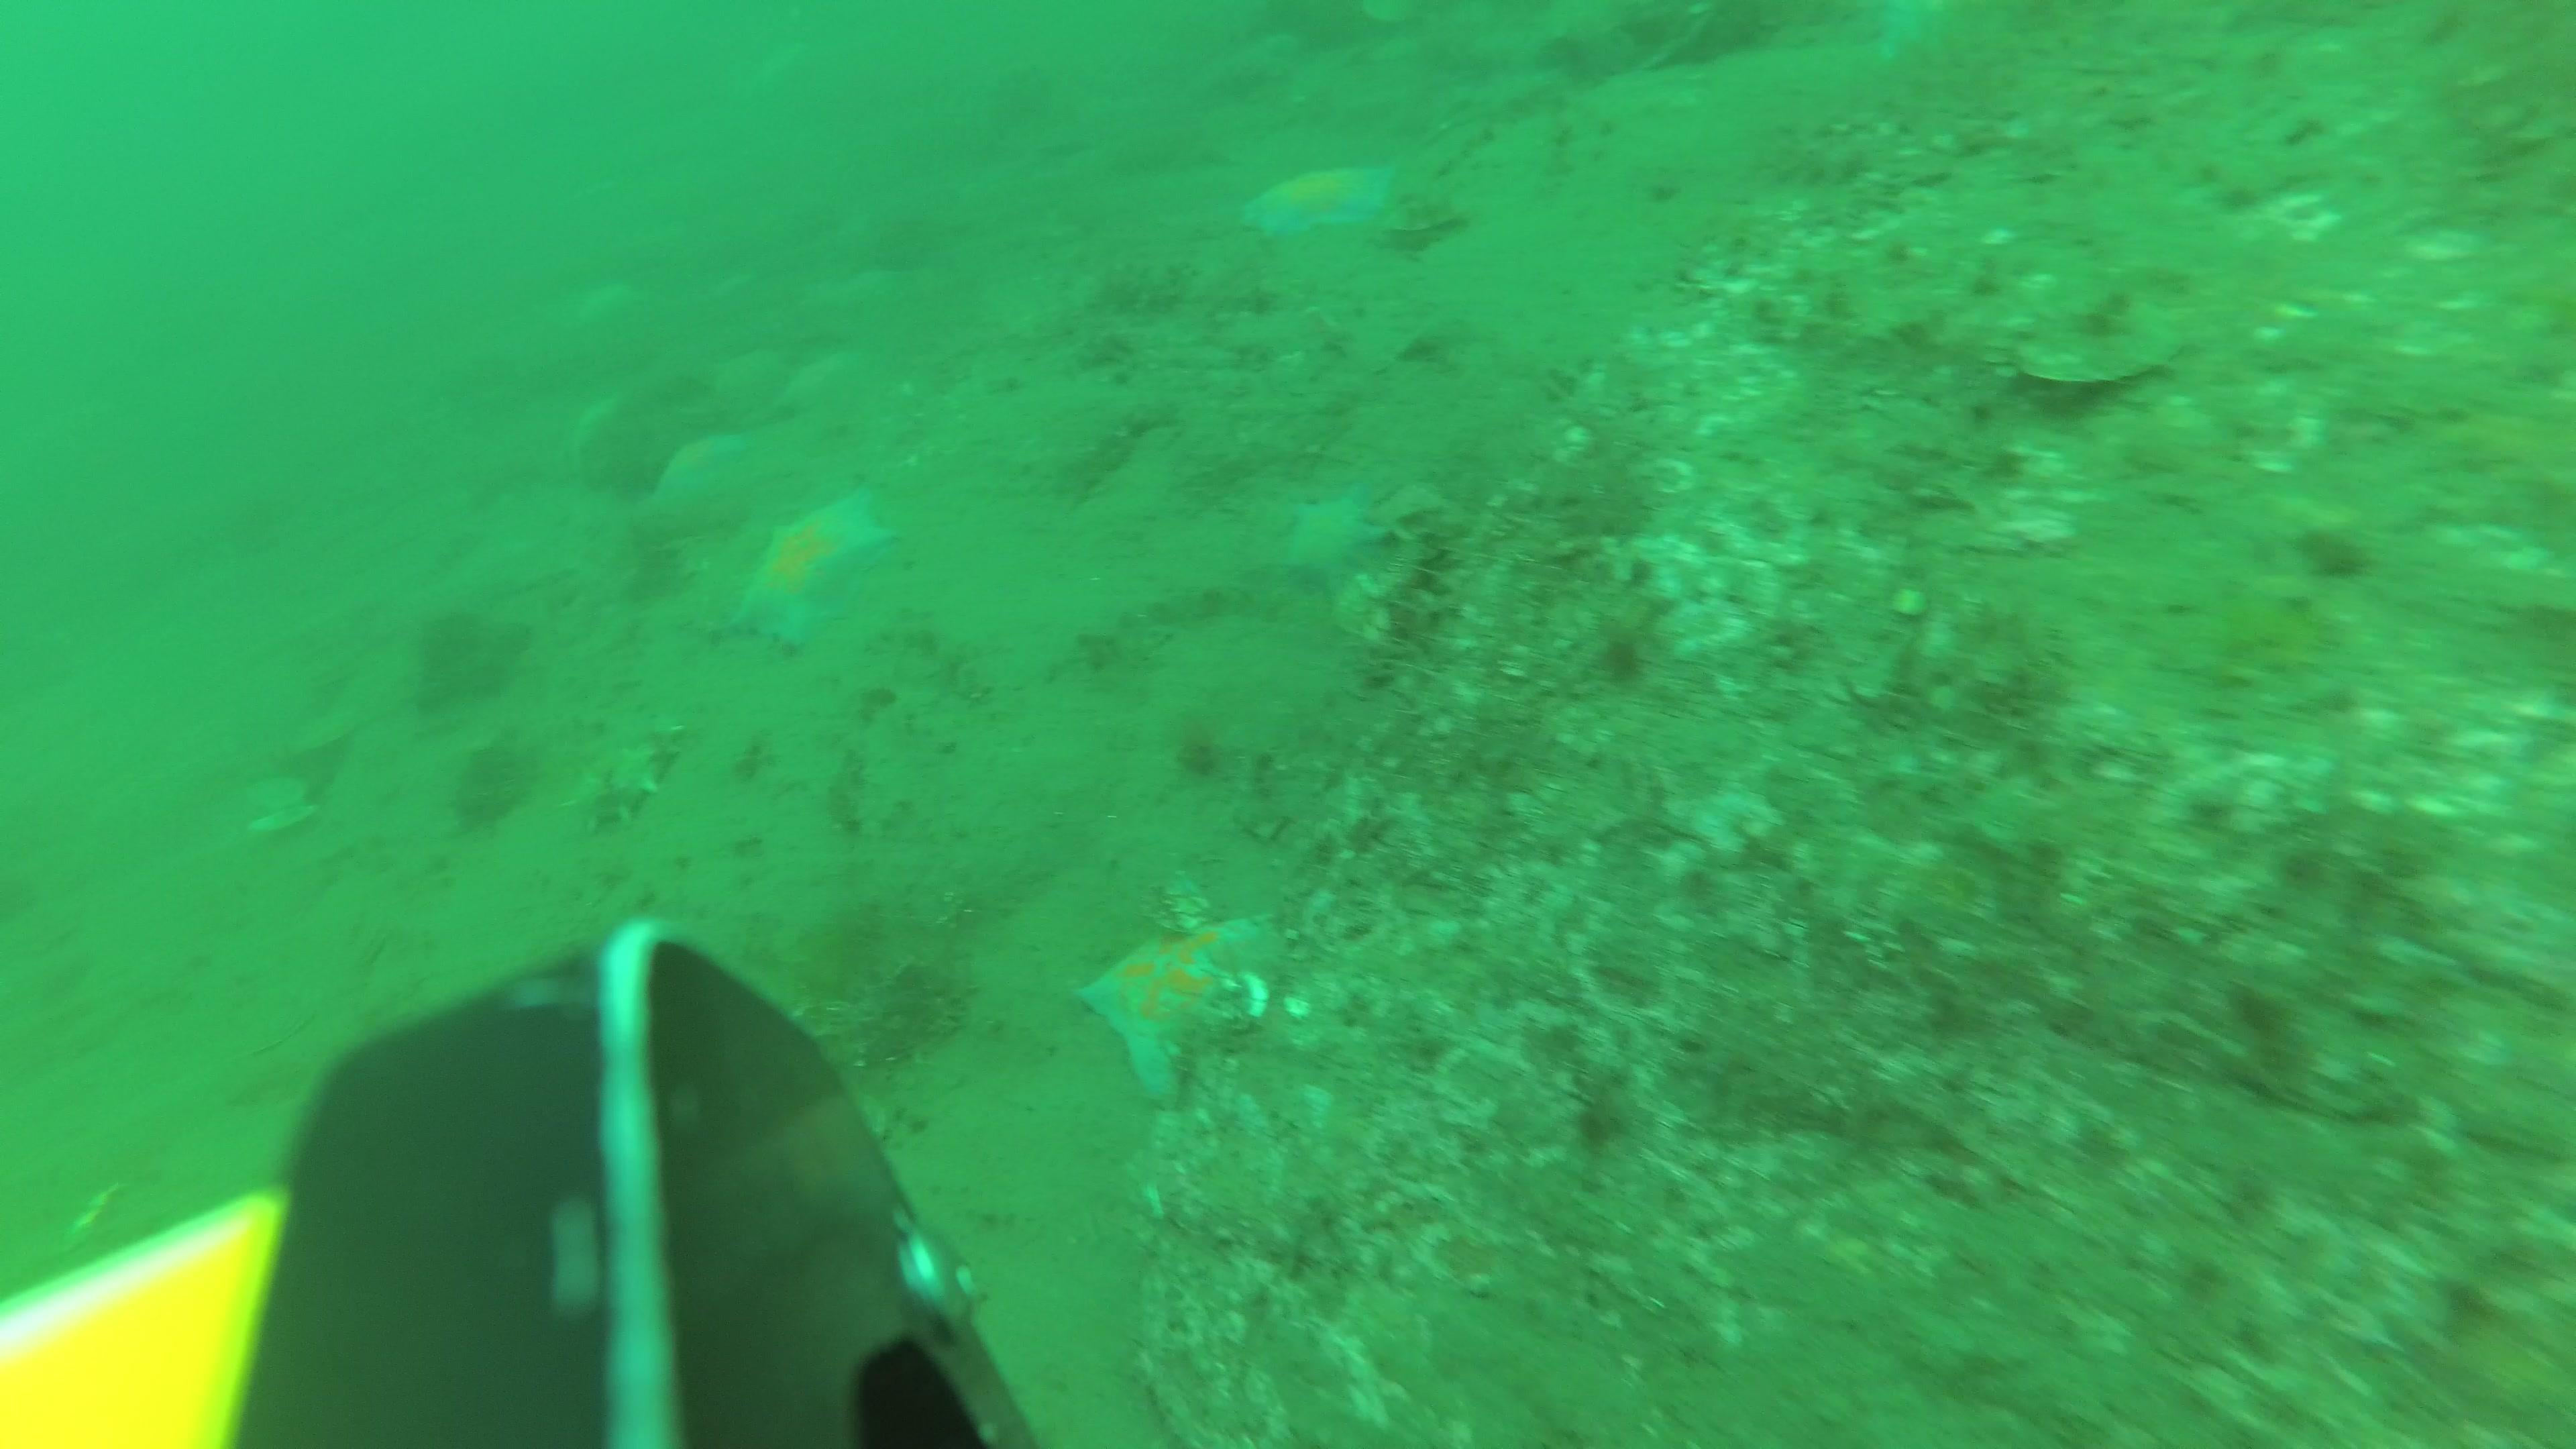holothurian: (571, 727, 681, 839)
scallop: (237, 780, 313, 835), (292, 701, 363, 759), (1336, 573, 1394, 642)
starfish: (1083, 915, 1299, 1111), (734, 483, 902, 653), (1240, 159, 1401, 241), (1293, 490, 1384, 598), (1874, 0, 2003, 73), (651, 428, 747, 513), (789, 341, 863, 418)
